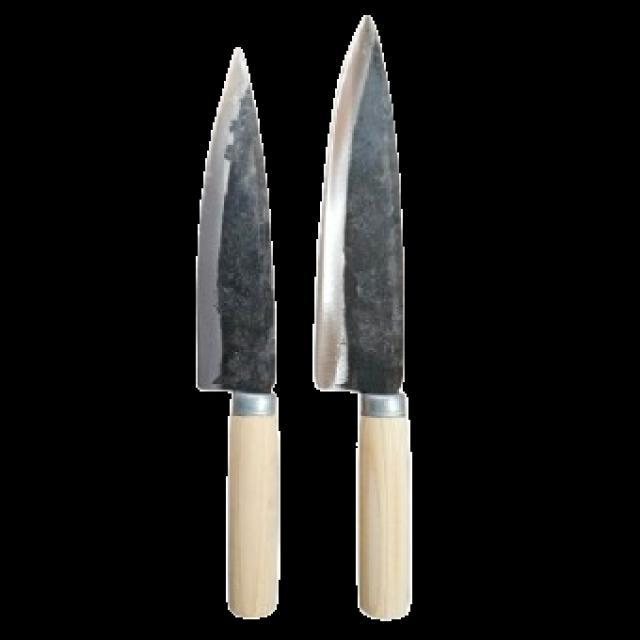knife: (309, 19, 416, 629), (191, 39, 281, 626)
